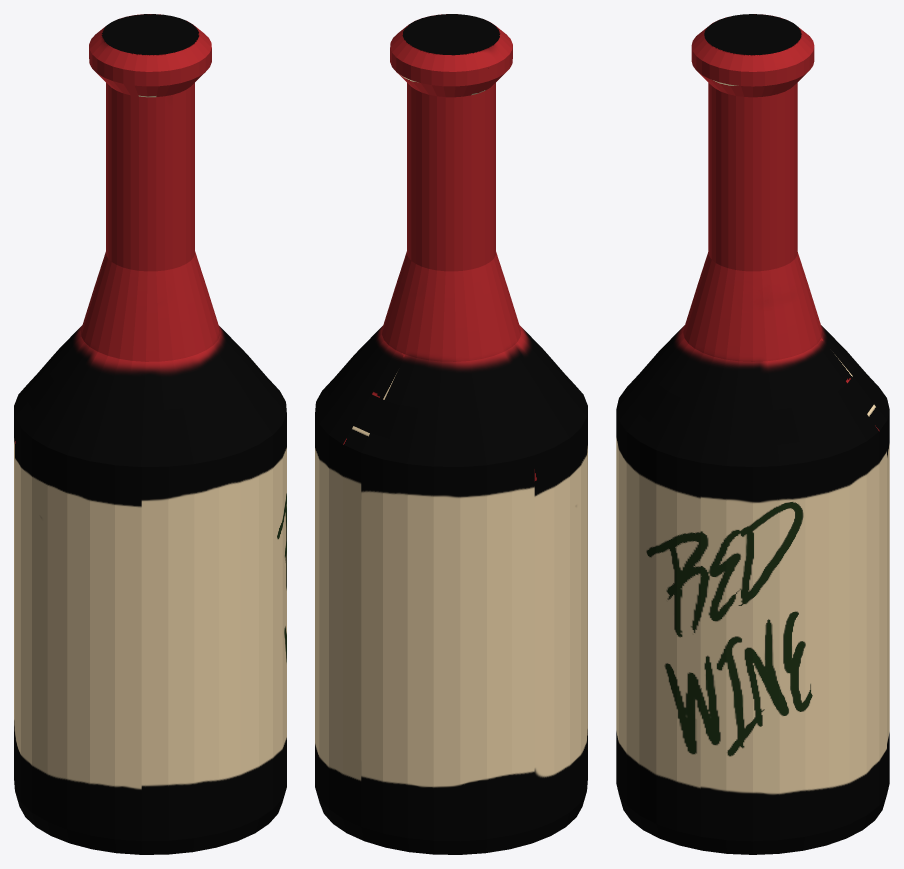
Rendered from RedWine.fbx.
The picture shows the model from 3 angles, left to right: view 1: azimuth 30°, elevation 25°; view 2: azimuth 150°, elevation 25°; view 3: azimuth 270°, elevation 25°; orthographic projection.
Visible parts, largest first — view 1: Circle; view 2: Circle; view 3: Circle.
Boxes of the visible parts, bbox=[...] form: Circle: bbox=[14, 14, 286, 854]; Circle: bbox=[315, 14, 587, 854]; Circle: bbox=[616, 14, 889, 854].
Size of the model in its own units: 207 by 638 by 207.
